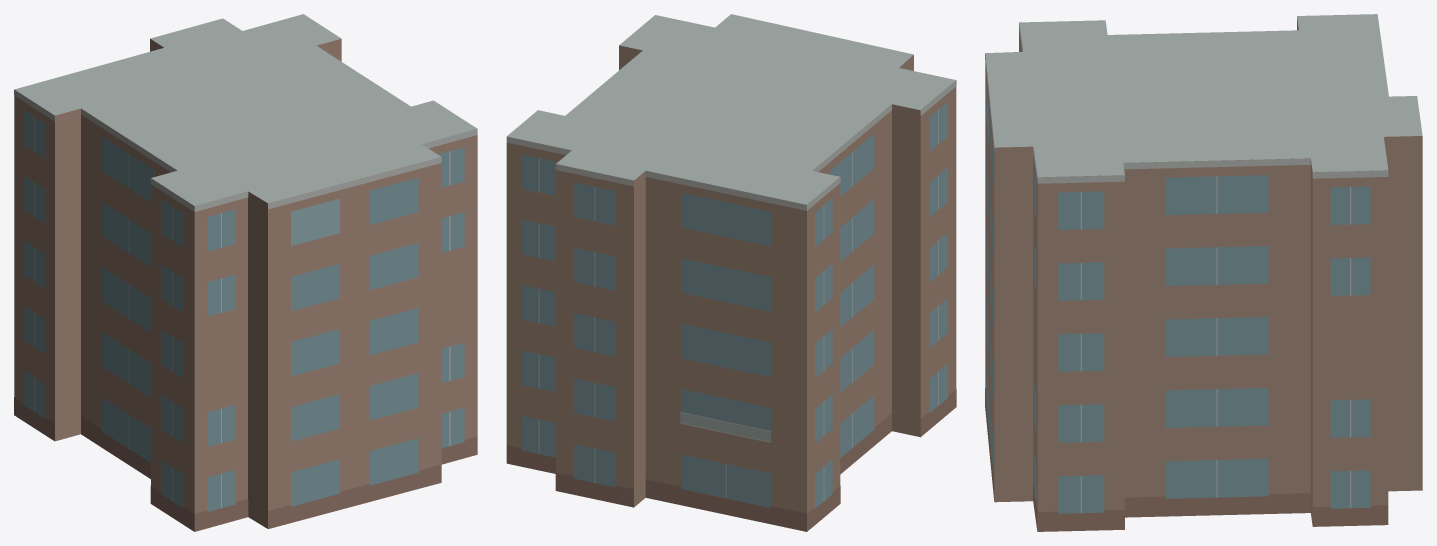
The model's file is survey-upis-32727593.glb.
3 renders of one model, left to right at view 1: azimuth 30°, elevation 25°; view 2: azimuth 150°, elevation 25°; view 3: azimuth 270°, elevation 25°, orthographic. The views are drawn at different scales.
Visible parts, largest first — view 1: survey-upis-32727593.tmp; view 2: survey-upis-32727593.tmp; view 3: survey-upis-32727593.tmp.
Boxes of the visible parts, x1=… form: survey-upis-32727593.tmp: x1=14, y1=14, x2=477, y2=531; survey-upis-32727593.tmp: x1=506, y1=14, x2=956, y2=531; survey-upis-32727593.tmp: x1=985, y1=14, x2=1422, y2=531.
Size of the model in its own units: 13.04 by 13.2 by 14.76.
